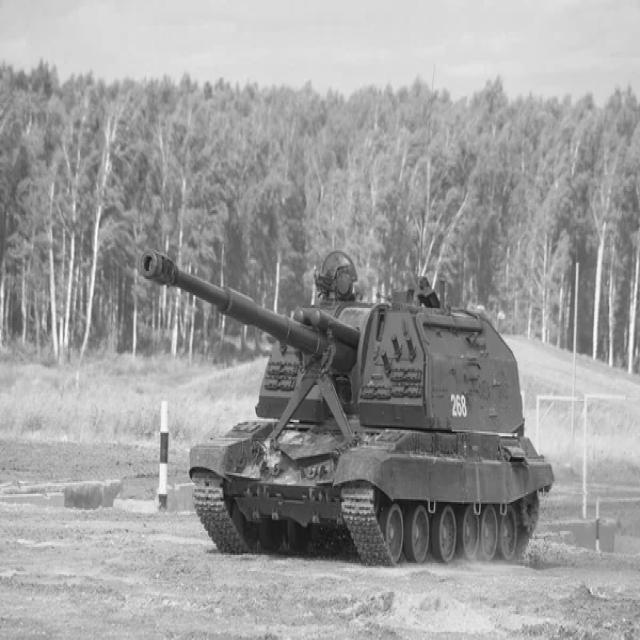Tank: (143, 228, 567, 566)
